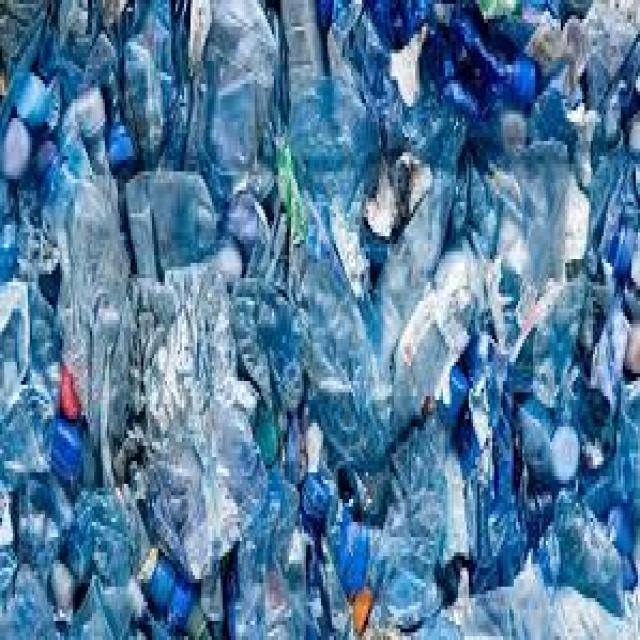plastic: (29, 28, 624, 626)
